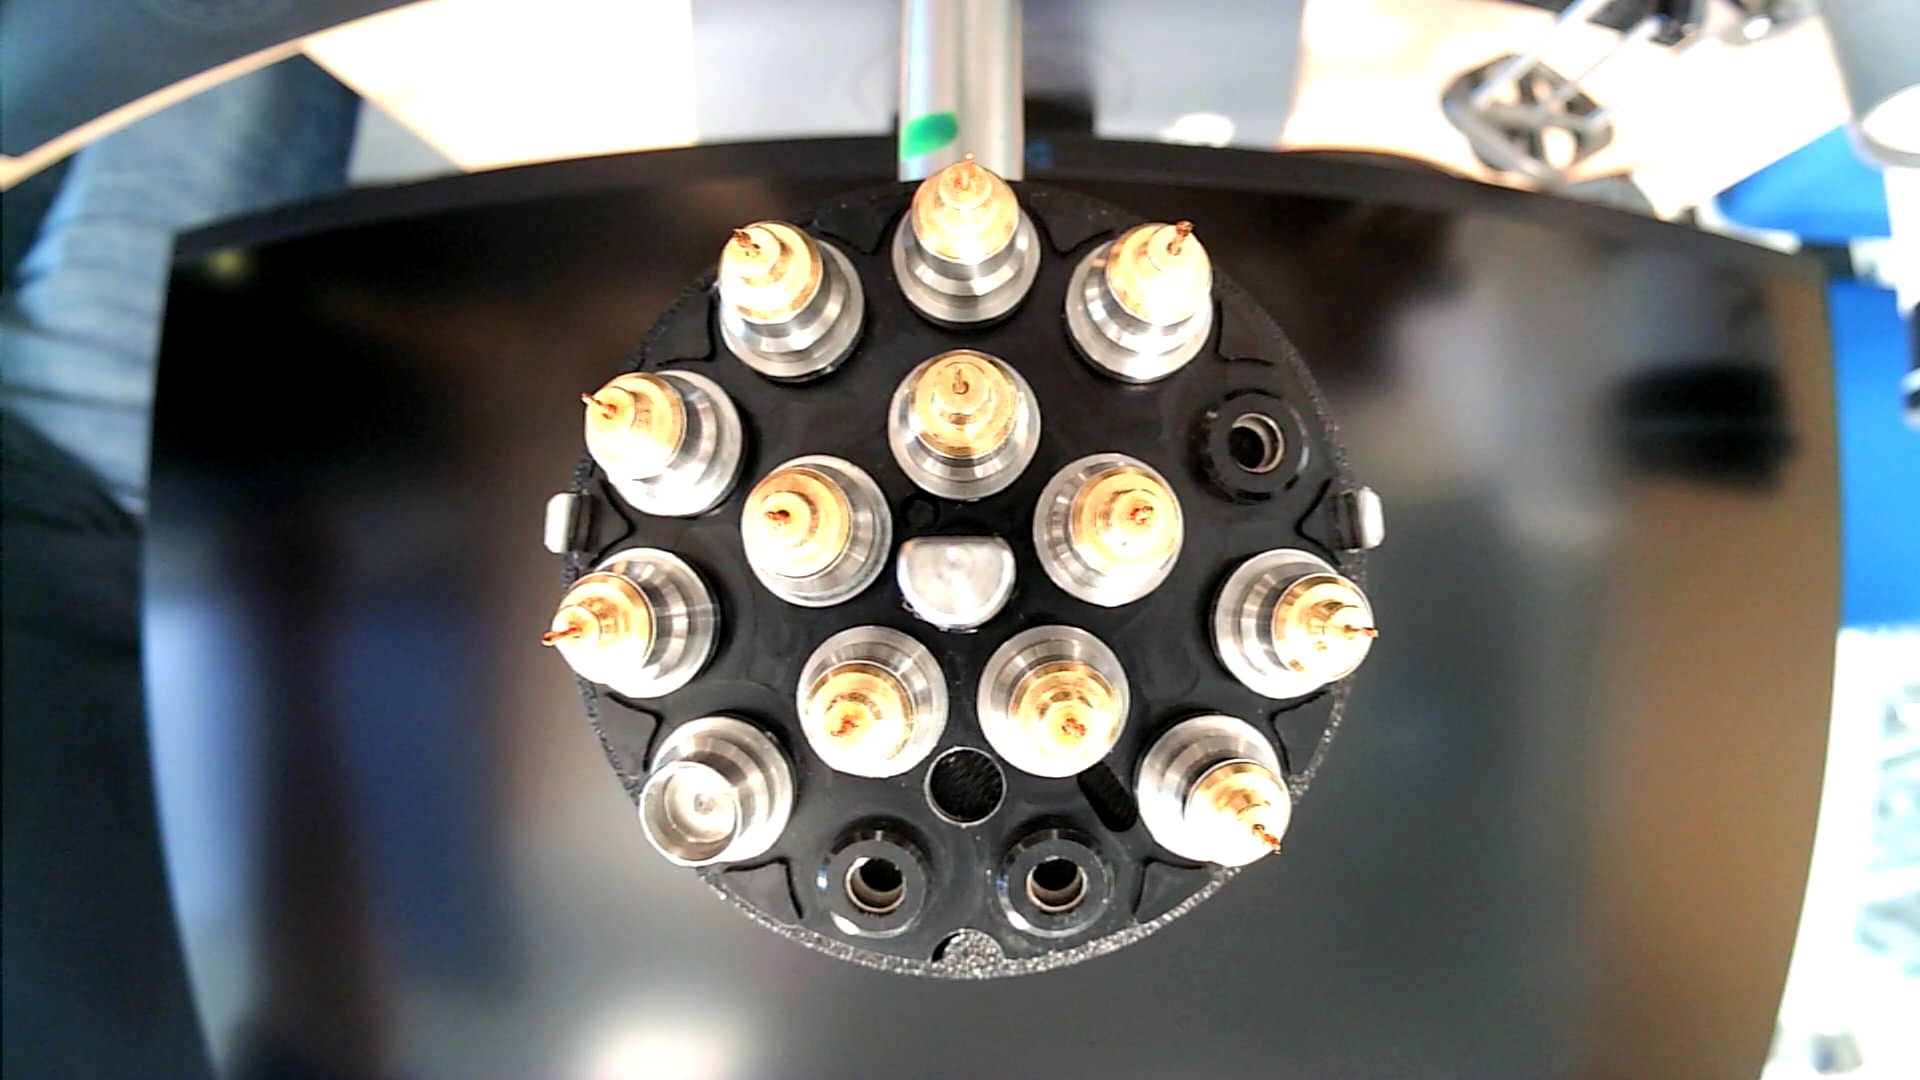adapter: (636, 713, 794, 873)
empty: (815, 814, 940, 947), (994, 818, 1122, 944), (1188, 381, 1313, 505)
hole: (923, 744, 1010, 829)
pin: (541, 549, 725, 702), (1208, 545, 1379, 702), (890, 152, 1043, 327), (574, 365, 742, 524), (711, 222, 866, 392), (1064, 214, 1215, 385), (1134, 707, 1295, 866), (884, 345, 1044, 502), (793, 625, 952, 782), (1030, 446, 1184, 605), (737, 451, 891, 611), (976, 620, 1131, 777)
rod: (893, 527, 1022, 640)
